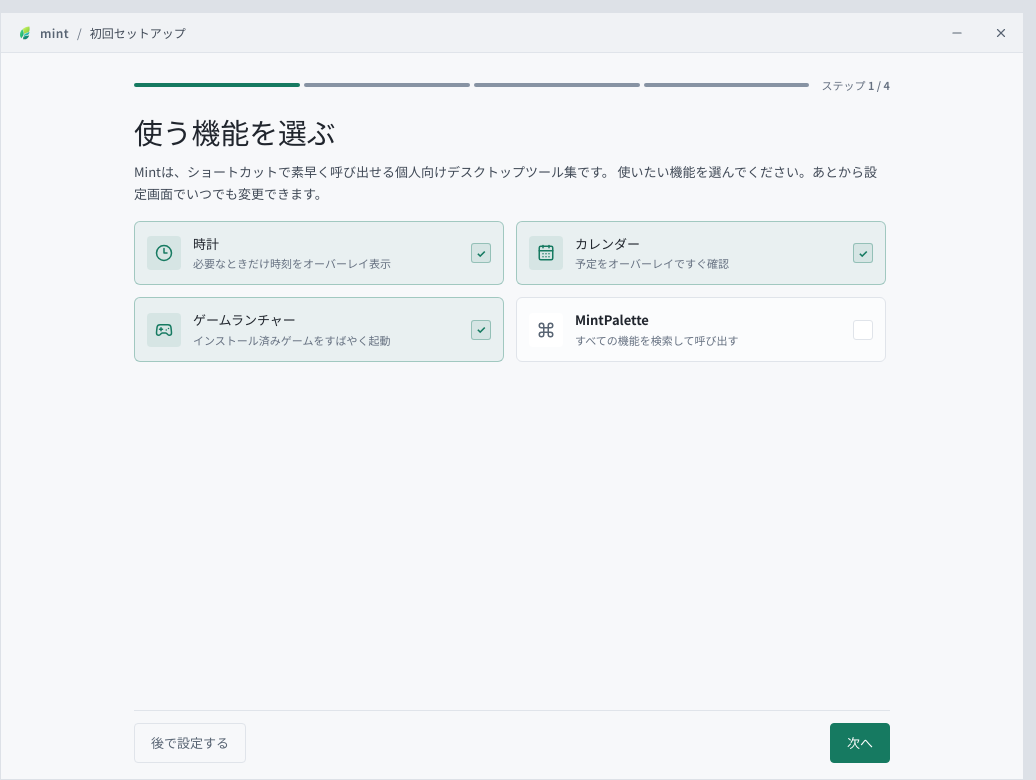
Test case: OnboardingFlow › records shortcut conflicts and blocks proceeding
Expected: the heading "使う機能を選ぶ" is shown, [134,110,336,152]
Click the button "次へ" at (860, 743), box [830,723,890,763]
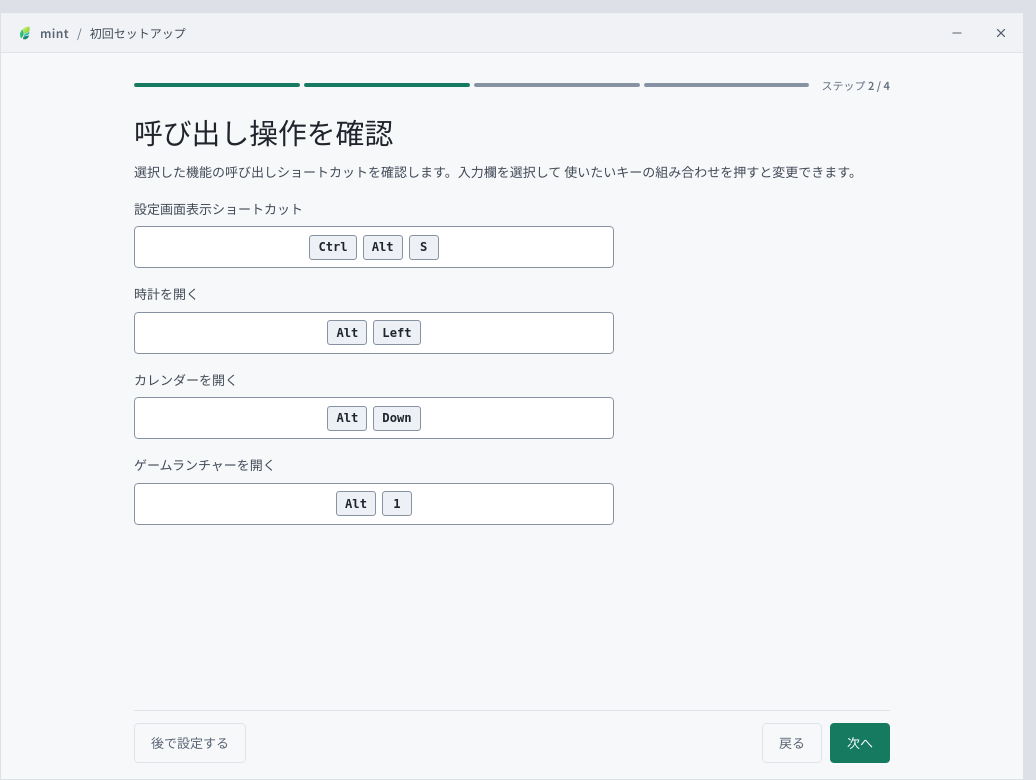
Expected: the heading "呼び出し操作を確認" is shown, [134,110,393,152]
# 時計のショートカットをゲームランチャー（Alt+1）と衝突させる
Focus the field labelled "時計を開く" at (374, 333), box [134,312,614,354]
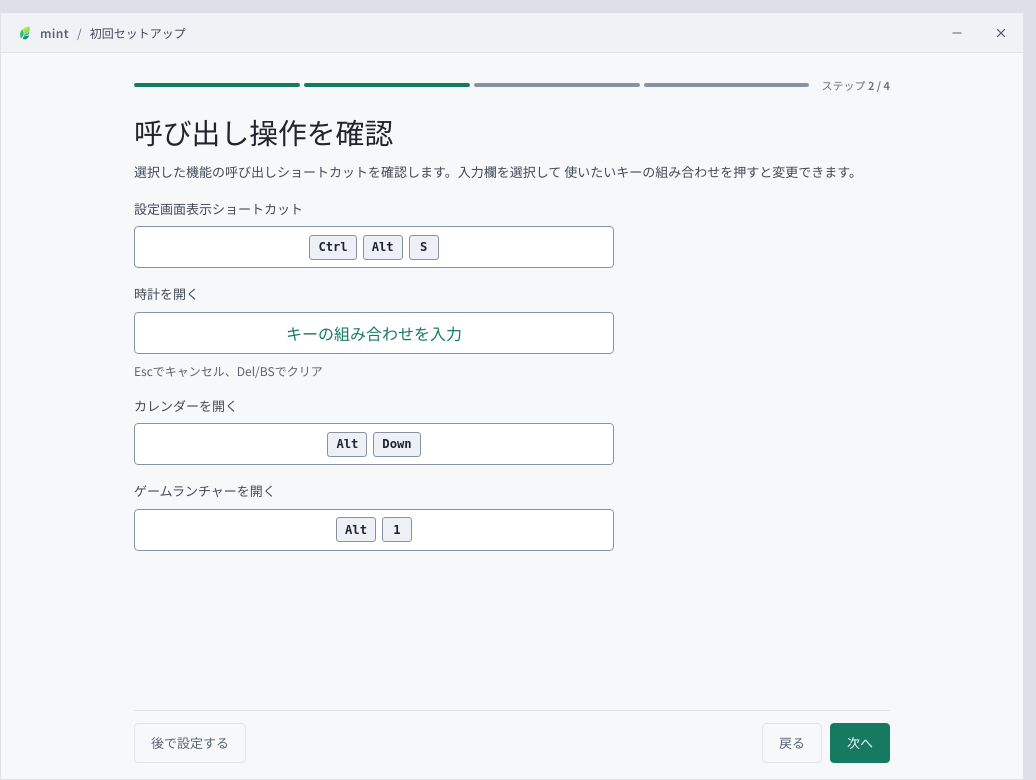
Press 1 in the field labelled "時計を開く", box [134,312,614,354]
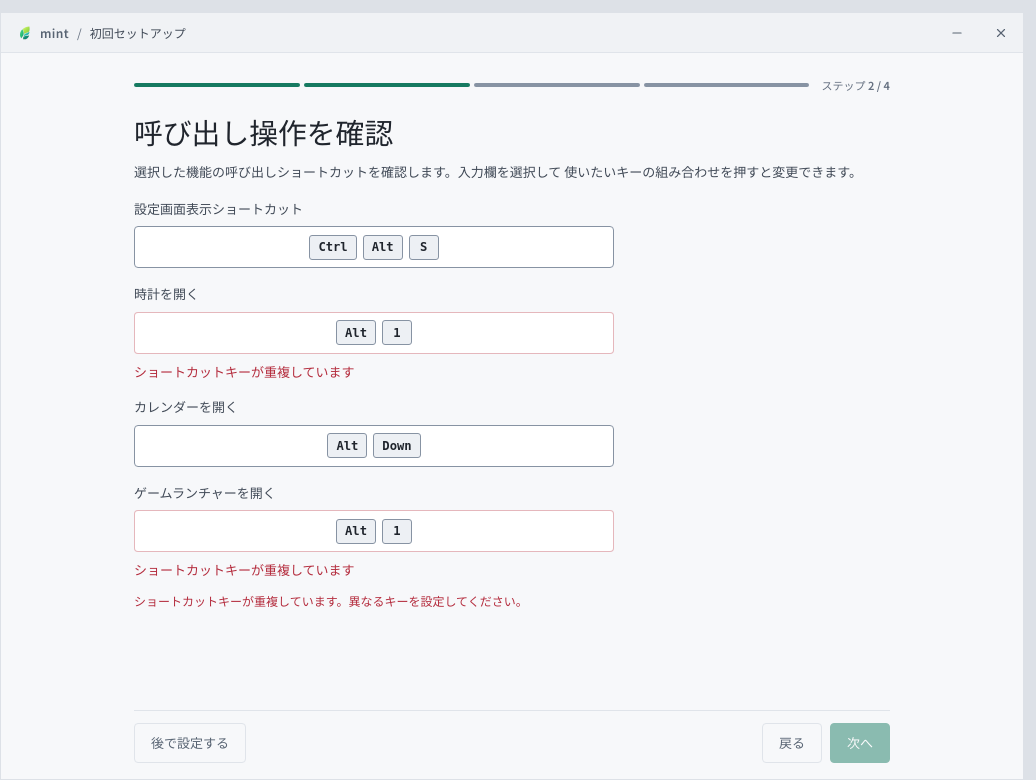
Expected: the field labelled "時計を開く" holds "Alt+1", [134,312,614,354]
Expected: the button "次へ" is disabled, [830,723,890,763]
